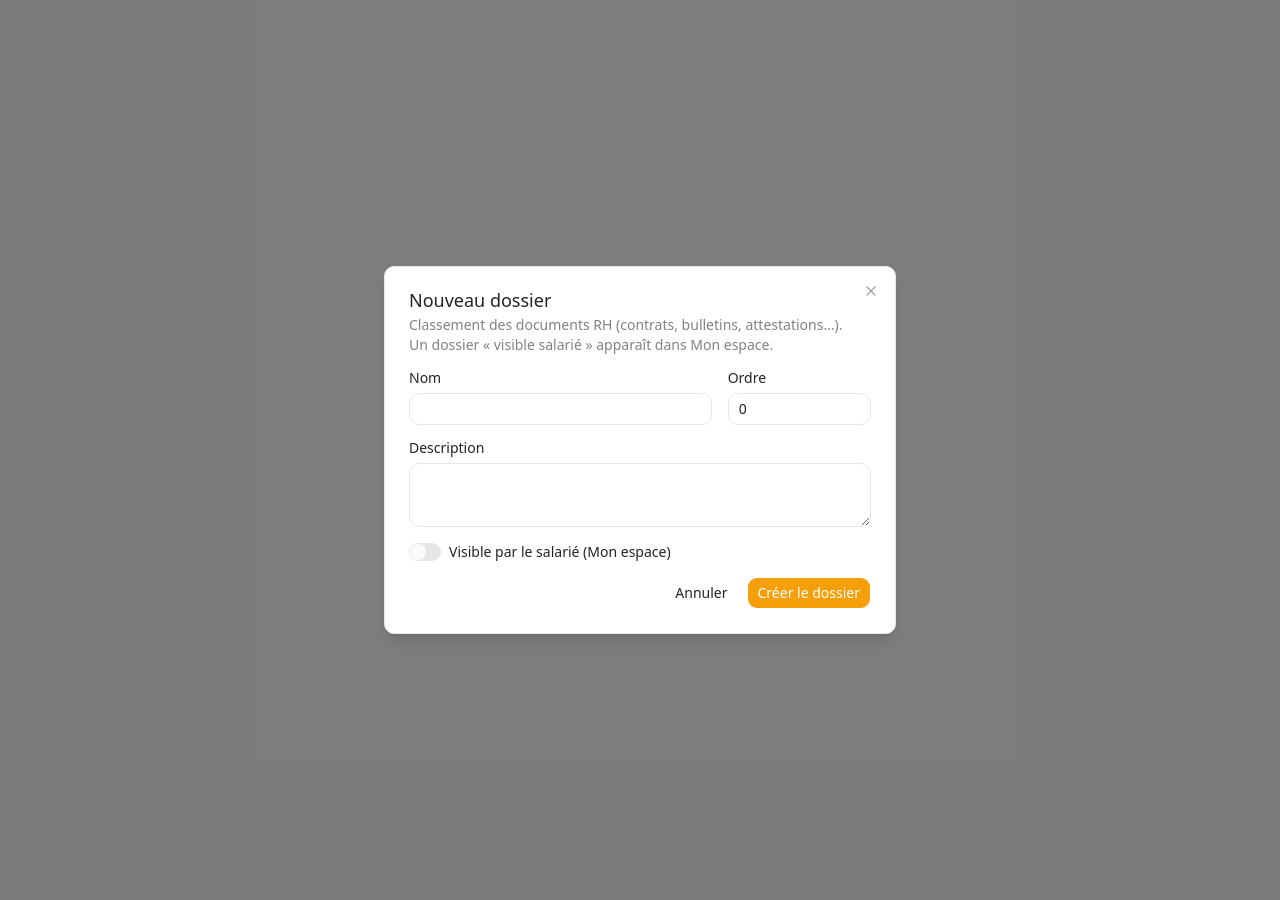
it: DossierDialog › affiche le refus d’unicité renvoyé par le serveur
The image size is (1280, 900).
Type "Divers" into the field labelled "Nom" at (560, 409), box [409, 393, 712, 425]
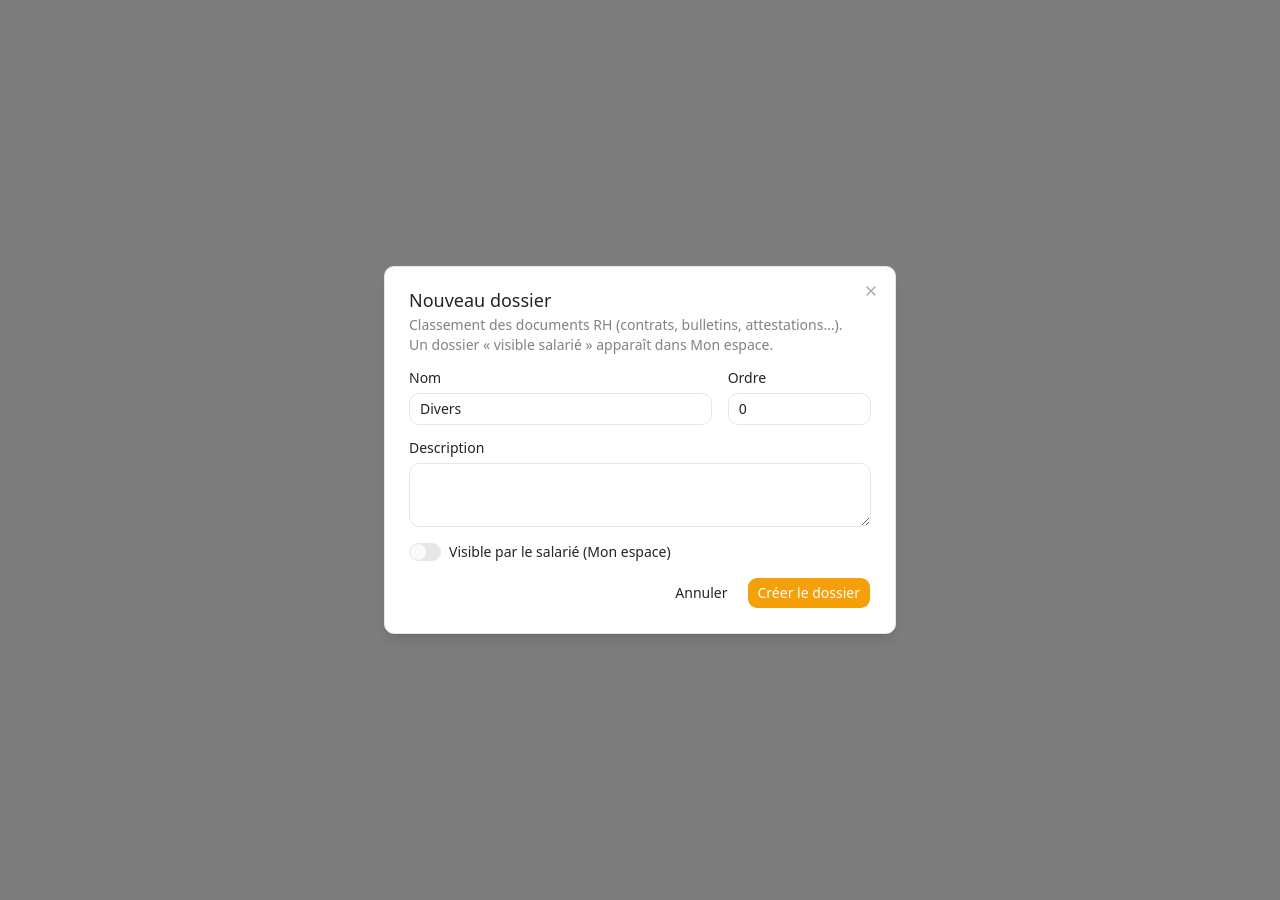
Click the button "Créer le dossier" at (809, 593), box [746, 577, 871, 609]
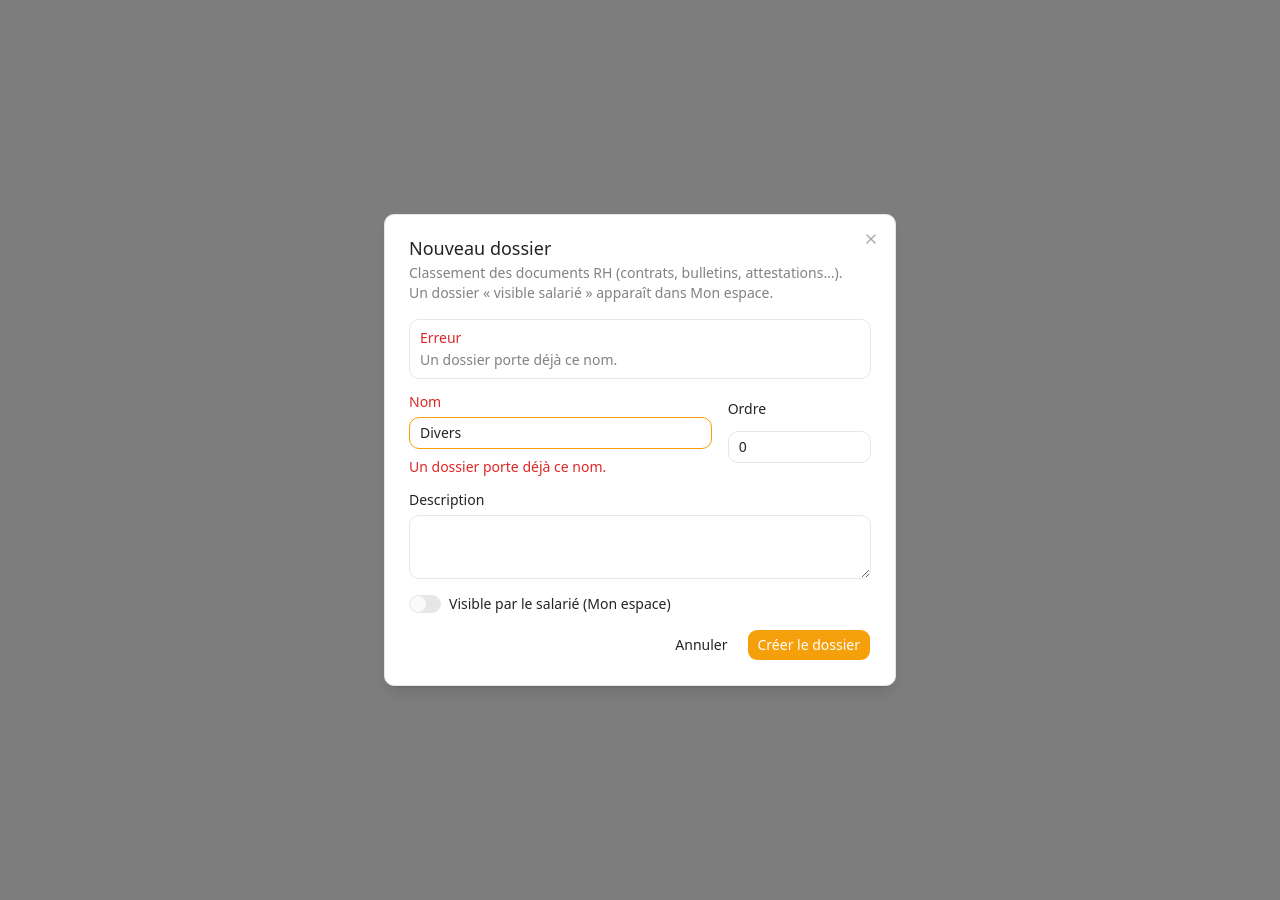
Now the text "Un dossier porte déjà ce nom." is shown 2 times, box [420, 350, 617, 369]; [409, 457, 606, 476]
